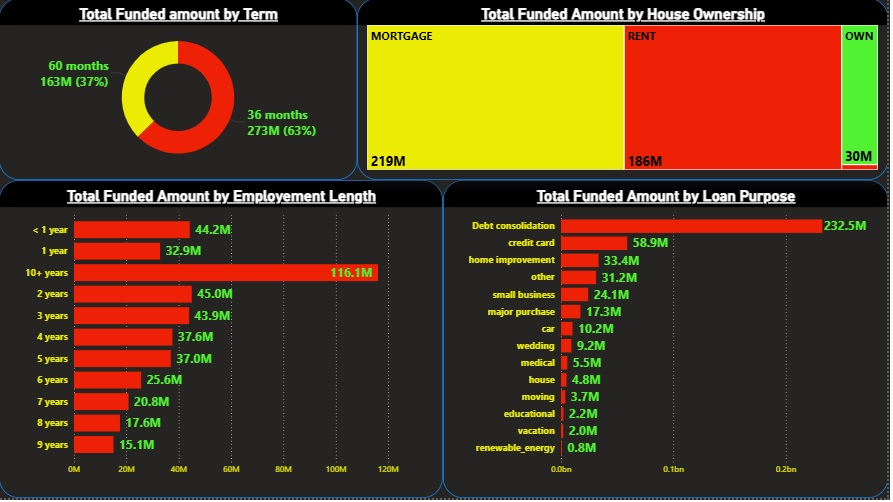

This screenshot's page, from the dashboard's own definition file:
{"tool":"powerbi","page":{"name":"Page 2","canvas":[1280,720],"ordinal":1},"visuals":[{"type":"donutChart","title":"Total Funded amount by Term","fields":{"Y":["Sum(financial_loan.loan_amount)"],"Category":["financial_loan.term"]},"box":[0,0,515.5,262.1],"z":0},{"type":"barChart","title":"Total Funded Amount  by Employement Length","fields":{"Category":["financial_loan.emp_length"],"Y":["Sum(financial_loan.loan_amount)"]},"box":[0,262.1,639.4,457.9],"z":1},{"type":"barChart","title":"Total Funded Amount  by Loan Purpose","fields":{"Category":["financial_loan.purpose"],"Y":["Sum(financial_loan.loan_amount)"]},"box":[639.4,262.1,640.8,457.9],"z":2},{"type":"treemap","title":"Total Funded Amount by House Ownership","fields":{"Values":["Sum(financial_loan.loan_amount)"],"Group":["financial_loan.home_ownership"]},"box":[515.5,0,764.6,262.1],"z":3}]}

Visuals, with their boxes in screenshot pixels (x1, y1, x2, y2), scaled from the page's 1280x720 canvas onto the 893x502 screenshot:
"Total Funded amount by Term" donutChart: 0, 0, 360, 183
"Total Funded Amount  by Employement Length" barChart: 0, 183, 446, 501
"Total Funded Amount  by Loan Purpose" barChart: 446, 183, 892, 501
"Total Funded Amount by House Ownership" treemap: 360, 0, 892, 183
